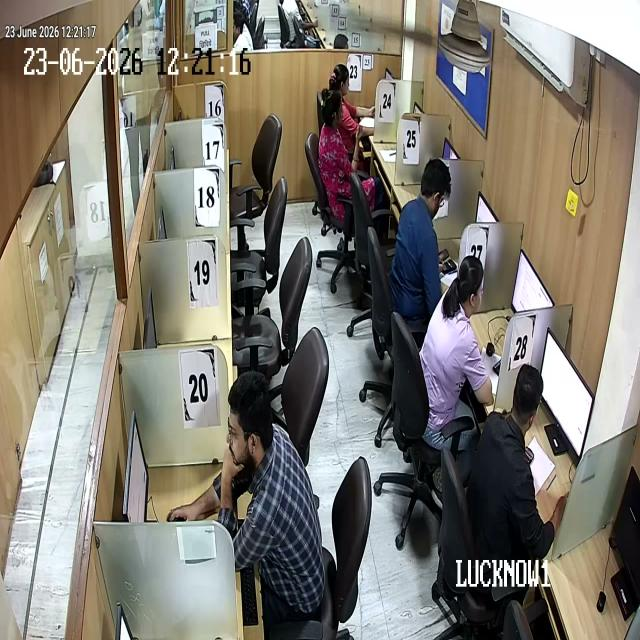phone: (440, 234, 450, 274)
